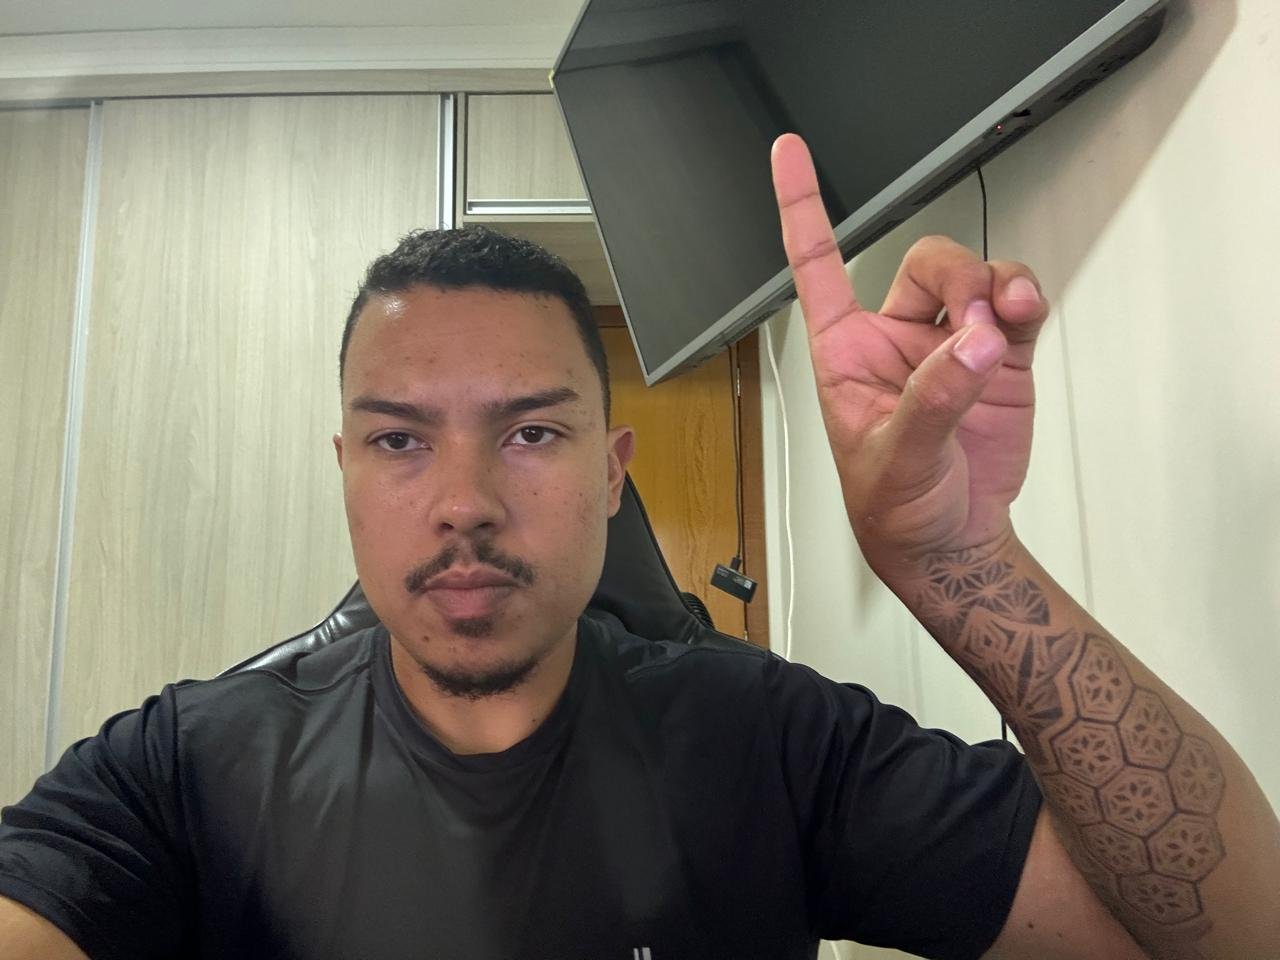d: (761, 125, 1051, 567)
